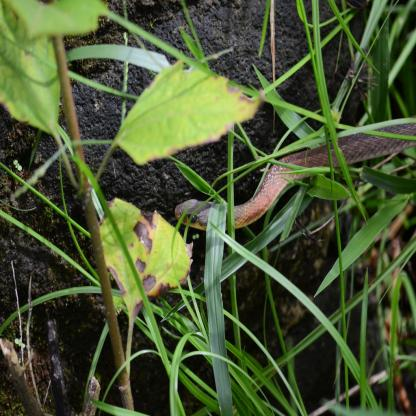Snake: (175, 127, 416, 234)
